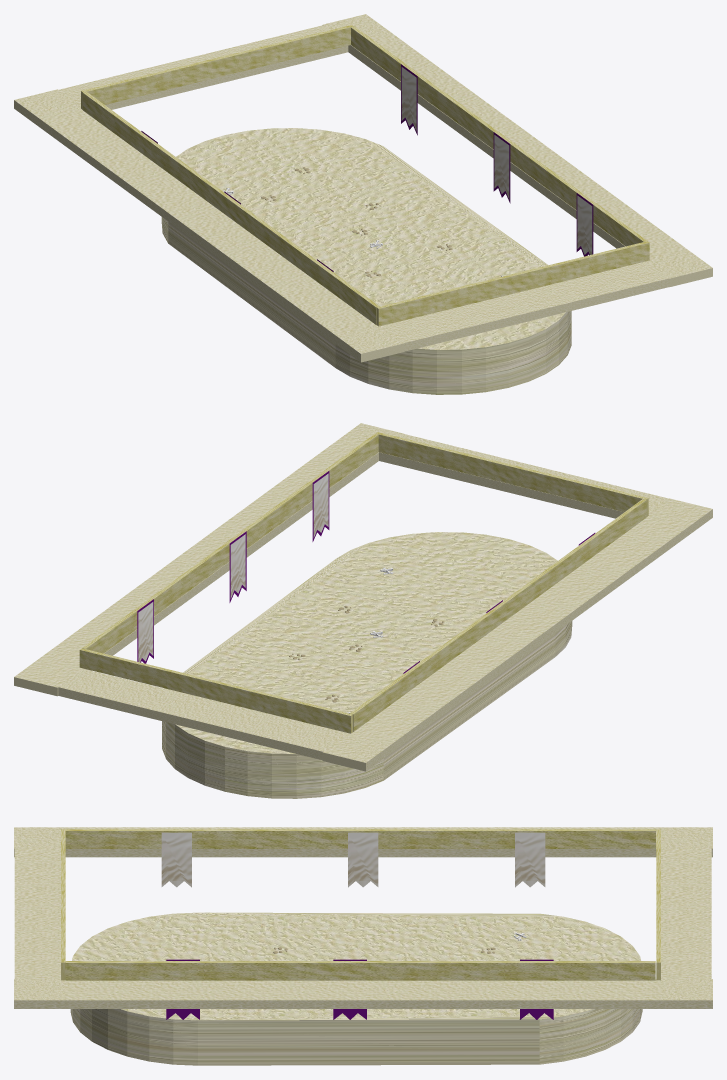
Rendered from arenafloor2.glb.
3 renders of one model, top to bottom at view 1: azimuth 30°, elevation 25°; view 2: azimuth 150°, elevation 25°; view 3: azimuth 270°, elevation 25°, orthographic.
Parts seen in each view (by area): view 1: Cylinder, Cube, Cube.001, Cube.003, Cube.002, Cube.004, Plane.004, Plane.005, Plane.006; view 2: Cylinder, Cube, Cube.001, Cube.004, Cube.002, Cube.003, Plane.004, Plane.005, Plane.006; view 3: Cylinder, Cube, Cube.002, Cube.001, Plane.003, Plane.001, Plane.002, Cube.003, Cube.004.
Boxes of the visible parts, x1,y1,x2,y2 form: Cylinder: [161, 128, 571, 394]; Cube: [14, 14, 712, 362]; Cube.001: [83, 92, 379, 324]; Cube.003: [376, 241, 649, 326]; Cube.002: [351, 26, 647, 246]; Cube.004: [81, 25, 353, 109]; Plane.004: [493, 132, 510, 203]; Plane.005: [576, 193, 593, 256]; Plane.006: [401, 64, 417, 135]; Cylinder: [162, 532, 572, 798]; Cube: [14, 423, 712, 771]; Cube.001: [350, 499, 646, 731]; Cube.004: [79, 648, 352, 733]; Cube.002: [82, 433, 378, 653]; Cube.003: [375, 432, 648, 516]; Plane.004: [229, 531, 246, 602]; Plane.005: [312, 471, 329, 541]; Plane.006: [137, 599, 153, 663]; Cylinder: [70, 912, 642, 1065]; Cube: [14, 827, 712, 1008]; Cube.002: [65, 961, 655, 980]; Cube.001: [65, 829, 655, 848]; Plane.003: [348, 832, 378, 887]; Plane.001: [515, 832, 545, 887]; Plane.002: [161, 832, 191, 887]; Cube.003: [61, 829, 65, 980]; Cube.004: [656, 829, 660, 980].
Bounding box in the file's own units: 16.19 × 5.1 × 27.63.
6 materials, 3 textured.
